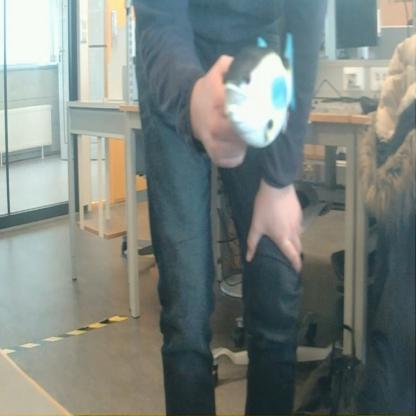rubberfish: (221, 26, 304, 154)
